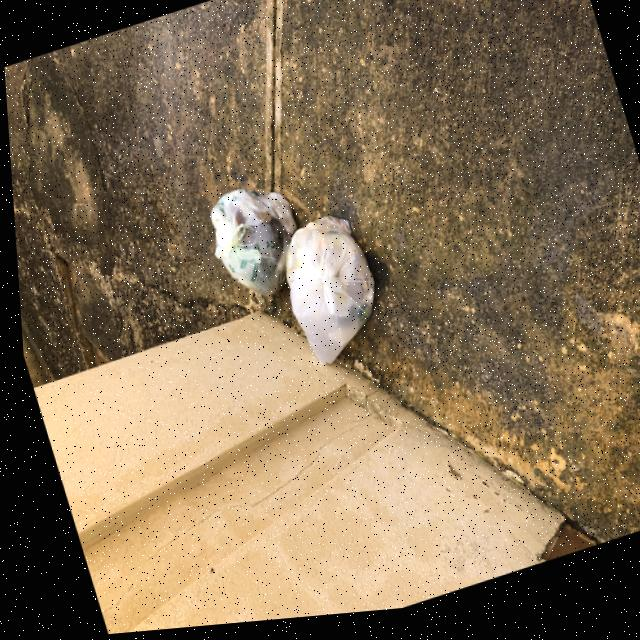Organic Waste -White Bag-: (264, 212, 392, 381), (197, 177, 313, 314)
